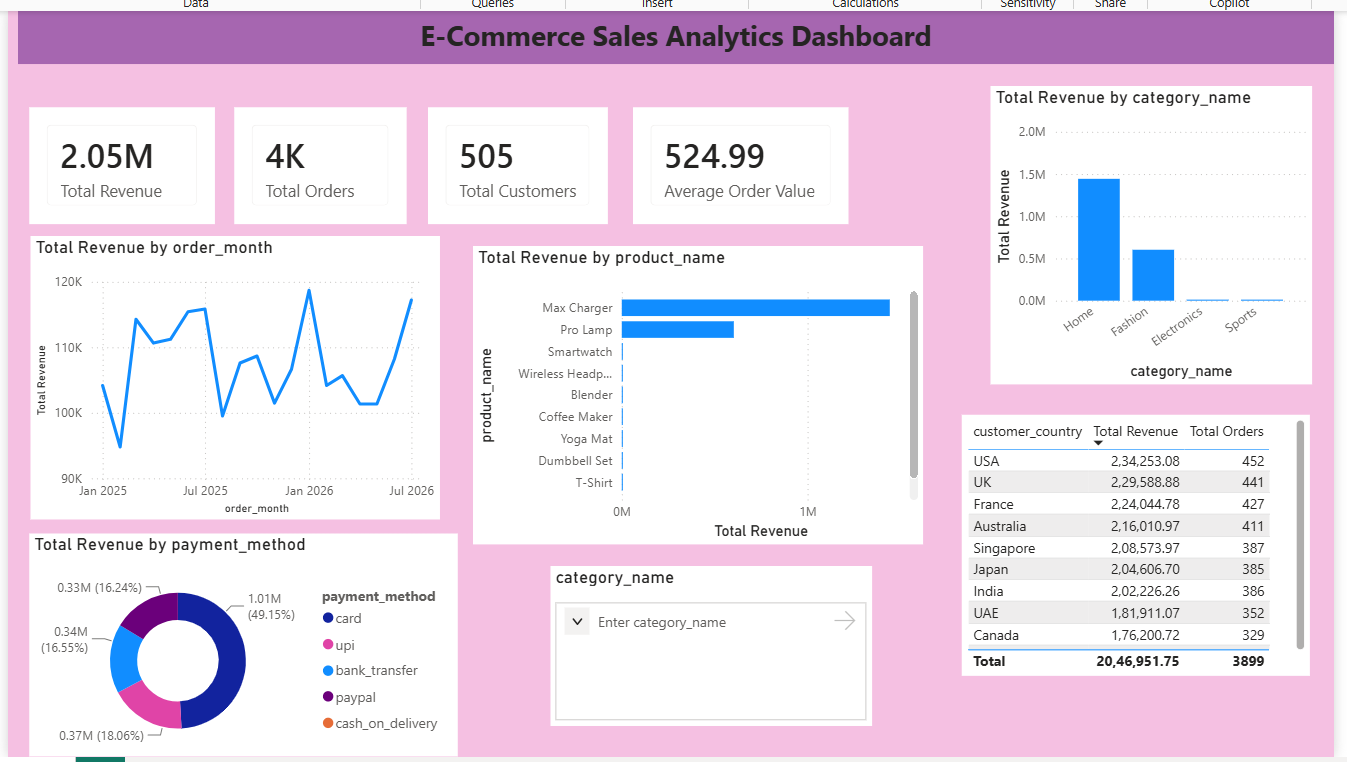

What the dashboard file says about the page in this screenshot:
{"tool":"powerbi","page":{"name":"Page 1","canvas":[1280,720],"ordinal":0},"visuals":[{"type":"textbox","box":[10,0,1270,51.3],"z":0},{"type":"cardVisual","fields":{"Data":["public v_sales.Total Revenue"]},"box":[20,92.7,179.6,112.6],"z":1},{"type":"cardVisual","fields":{"Data":["public v_sales.Total Orders"]},"box":[218.1,92.7,166.8,112.6],"z":2},{"type":"cardVisual","fields":{"Data":["public v_sales.Total Customers"]},"box":[404.8,92.7,173.9,112.6],"z":3},{"type":"cardVisual","fields":{"Data":["public v_sales.Average Order Value"]},"box":[602.9,92.7,208.1,112.6],"z":4},{"type":"lineChart","fields":{"Y":["public v_sales.Total Revenue"],"Category":["public v_sales.order_month"]},"box":[21.4,216.7,394.8,273.7],"z":5},{"type":"clusteredBarChart","fields":{"Category":["public v_sales.product_name"],"Y":["public v_sales.Total Revenue"]},"box":[449,226.6,434.7,287.9],"z":6},{"type":"clusteredColumnChart","fields":{"Category":["public v_sales.category_name"],"Y":["public v_sales.Total Revenue"]},"box":[947.9,72.7,310,288],"z":7},{"type":"donutChart","fields":{"Category":["public v_sales.payment_method"],"Y":["public v_sales.Total Revenue"]},"box":[20,504.6,413.4,215.2],"z":8},{"type":"tableEx","fields":{"Values":["public v_sales.customer_country","public v_sales.Total Revenue","public v_sales.Total Orders"]},"box":[920.8,389.1,336.4,252.3],"z":9},{"type":"textSlicer","fields":{"Values":["public v_sales.category_name"]},"box":[523.1,535.9,310,154],"z":10}]}

Visuals, with their boxes in screenshot pixels (x1, y1, x2, y2):
textbox: region(14, 7, 1332, 60)
cardVisual - public v_sales.Total Revenue: region(24, 103, 211, 220)
cardVisual - public v_sales.Total Orders: region(230, 103, 403, 220)
cardVisual - public v_sales.Total Customers: region(424, 103, 604, 220)
cardVisual - public v_sales.Average Order Value: region(629, 103, 845, 220)
lineChart - public v_sales.Total Revenue x public v_sales.order_month: region(26, 232, 435, 516)
clusteredBarChart - public v_sales.product_name x public v_sales.Total Revenue: region(469, 242, 921, 541)
clusteredColumnChart - public v_sales.category_name x public v_sales.Total Revenue: region(987, 82, 1309, 381)
donutChart - public v_sales.payment_method x public v_sales.Total Revenue: region(24, 531, 453, 754)
tableEx - public v_sales.customer_country x public v_sales.Total Revenue: region(959, 411, 1308, 673)
textSlicer - public v_sales.category_name: region(546, 563, 868, 723)
